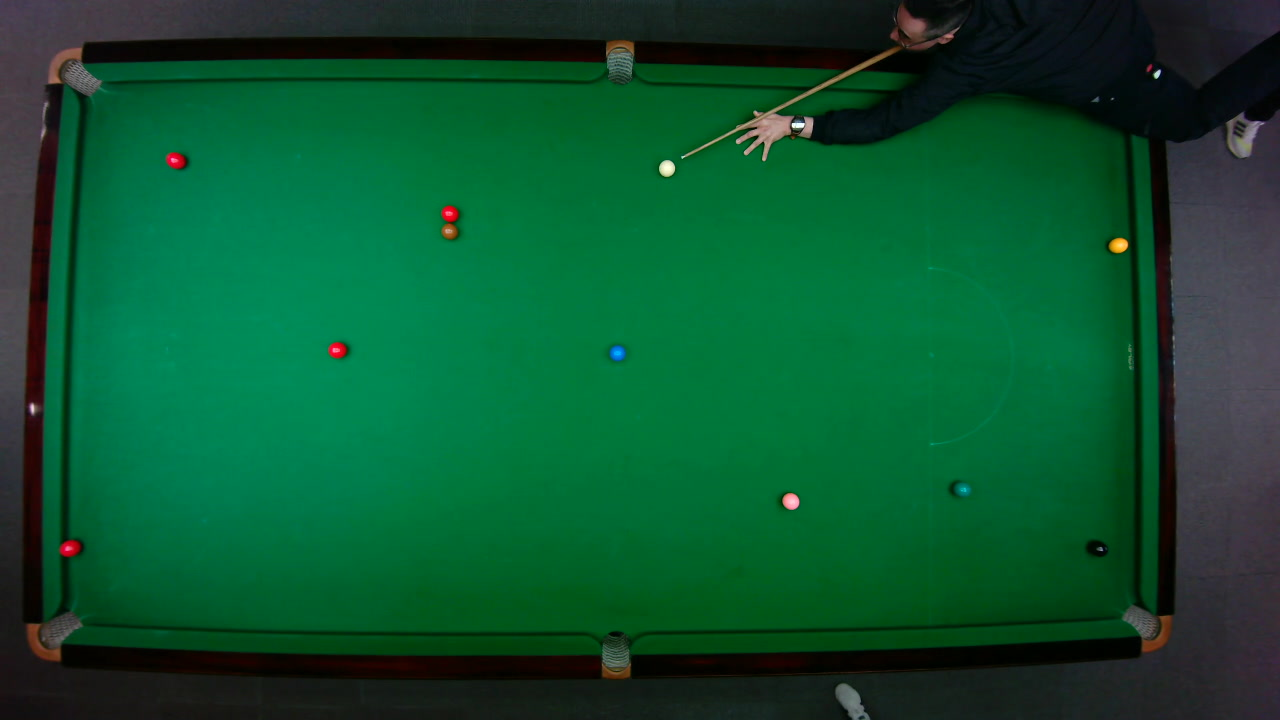bag: (24, 609, 84, 661), (45, 46, 101, 96), (1119, 603, 1171, 652), (1224, 112, 1264, 158), (600, 629, 630, 680), (605, 38, 633, 85)
black: (1087, 539, 1108, 557)
blue: (607, 343, 626, 361)
brown: (440, 223, 458, 239)
cue: (681, 41, 903, 159)
green: (951, 480, 972, 497)
pink: (780, 491, 800, 510)
red: (58, 538, 82, 557), (164, 150, 187, 169), (326, 340, 347, 359), (439, 203, 459, 222)
white: (657, 158, 676, 177)
yellow: (1107, 235, 1129, 253)
zone: (927, 266, 1013, 446)
